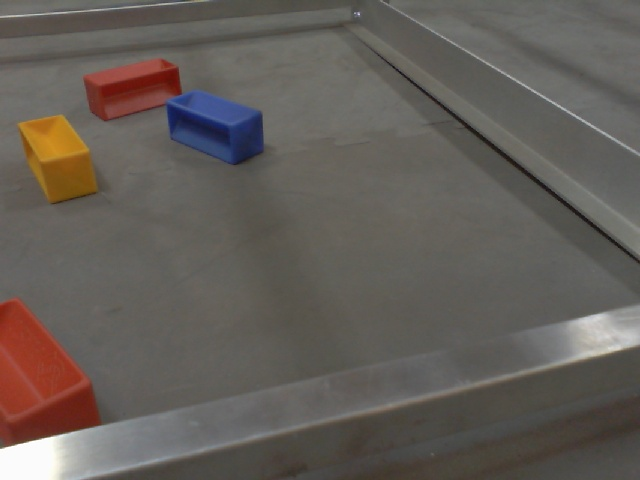BlueSample: (160, 88, 266, 166)
RedSample: (1, 292, 102, 445), (79, 56, 185, 123)
YellowSample: (16, 112, 99, 206)
